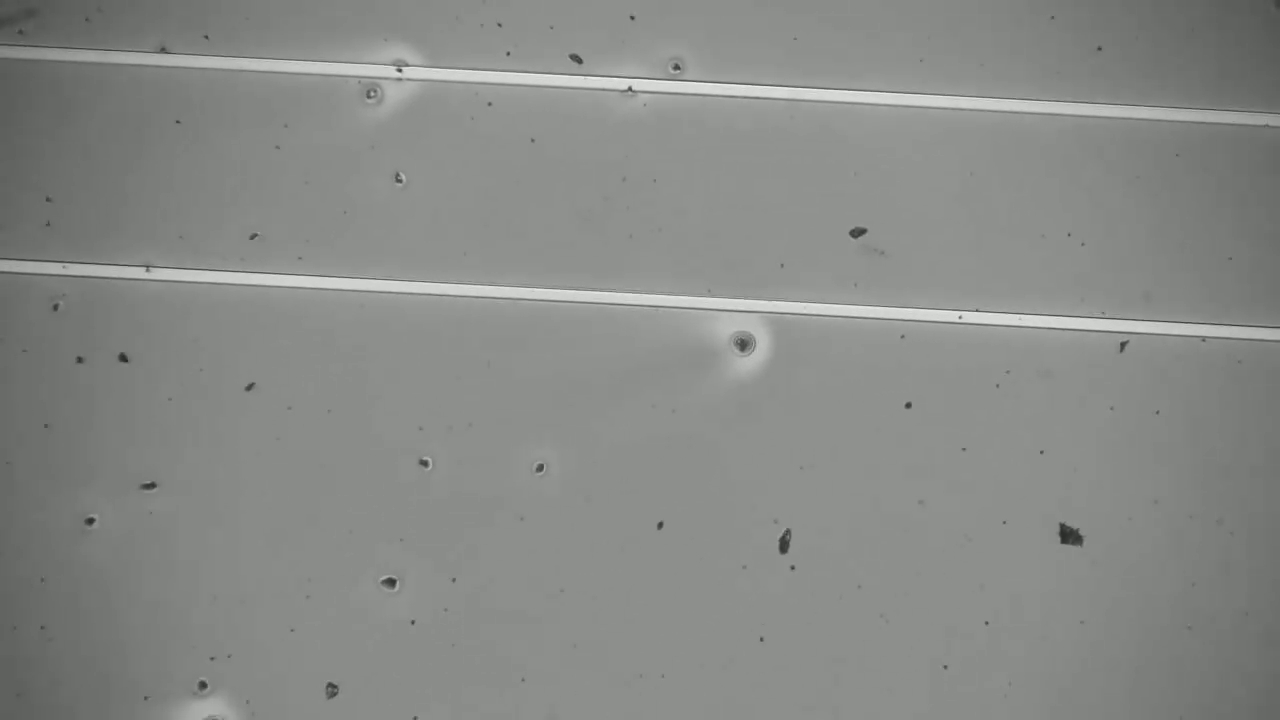stains_enbedded: (385, 58, 415, 83), (621, 68, 643, 97)
